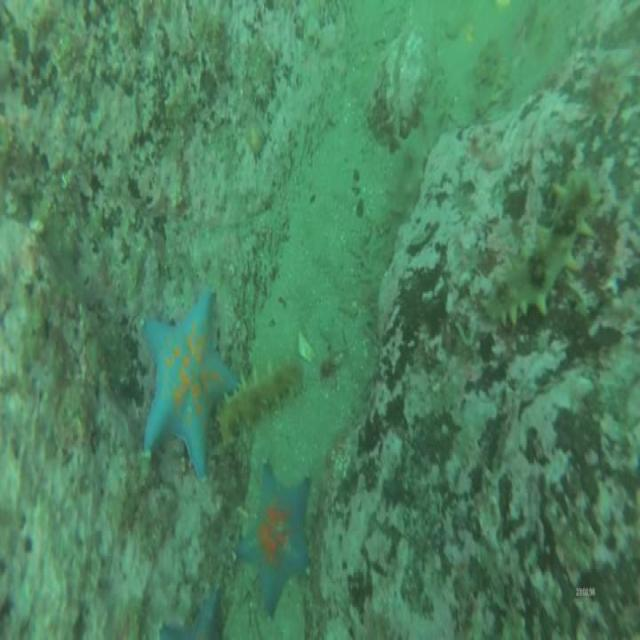holothurian: (488, 172, 601, 324), (220, 357, 300, 446), (392, 102, 442, 216)
starfish: (140, 289, 233, 474), (240, 463, 310, 612)
